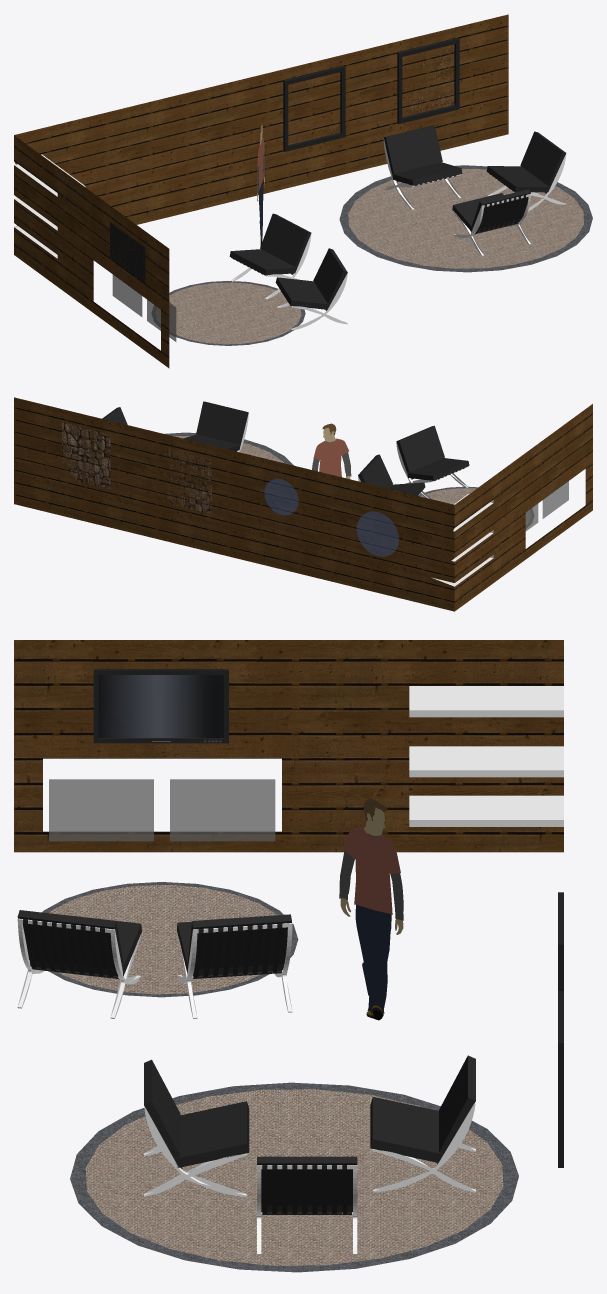
The model's file is room.FBX.
The picture shows the model from 3 angles, top to bottom: view 1: azimuth 30°, elevation 25°; view 2: azimuth 150°, elevation 25°; view 3: azimuth 270°, elevation 25°; orthographic projection. The views are drawn at different scales.
Visible parts, largest first — view 1: Layer0_001, cushion - seat#2_007, cushion - seat#1_003, cushion - seat#1_011, ske5A8_001, cushion - seat#1_005, cushion - seat#1_007, cushion - seat#1_009, cushion - seat#1_001, cushion - seat#2_005, cushion - seat#2_003, cushion - seat#2_001 (+4 smaller); view 2: Layer0_001, cushion - seat#2_003, cushion - seat#1_007, Bryce_004, cushion - seat#1_005, cushion - seat#1_003, cushion - seat#2_001, Barcelona_002, cushion - seat#1_001; view 3: Layer0_001, ske5A8_001, Bryce_004, cushion - seat#2_001, cushion - seat#2_005, cushion - seat#1_011, cushion - seat#1_003, cushion - seat#1_007, cushion - seat#2_003, cushion - seat#2_007, Barcelona#1_001, Barcelona_002 (+4 smaller).
Boxes of the visible parts, bbox=[...] form: Layer0_001: bbox=[14, 14, 592, 368]; cushion - seat#2_007: bbox=[383, 125, 442, 173]; cushion - seat#1_003: bbox=[260, 213, 311, 267]; cushion - seat#1_011: bbox=[520, 131, 566, 186]; ske5A8_001: bbox=[110, 222, 145, 283]; cushion - seat#1_005: bbox=[275, 277, 330, 309]; cushion - seat#1_007: bbox=[313, 248, 347, 304]; cushion - seat#1_009: bbox=[486, 166, 550, 192]; cushion - seat#1_001: bbox=[229, 249, 296, 275]; cushion - seat#2_005: bbox=[392, 162, 462, 185]; cushion - seat#2_003: bbox=[472, 189, 530, 227]; cushion - seat#2_001: bbox=[452, 193, 521, 231]; Layer0_001: bbox=[14, 397, 592, 611]; cushion - seat#2_003: bbox=[196, 401, 248, 444]; cushion - seat#1_007: bbox=[396, 425, 444, 472]; Bryce_004: bbox=[312, 423, 351, 479]; cushion - seat#1_005: bbox=[407, 458, 469, 480]; cushion - seat#1_003: bbox=[358, 454, 392, 488]; cushion - seat#2_001: bbox=[183, 434, 240, 451]; Barcelona_002: bbox=[396, 442, 468, 498]; cushion - seat#1_001: bbox=[389, 482, 425, 495]; Layer0_001: bbox=[14, 640, 563, 1272]; ske5A8_001: bbox=[93, 669, 228, 743]; Bryce_004: bbox=[339, 798, 403, 1020]; cushion - seat#2_001: bbox=[175, 1101, 249, 1167]; cushion - seat#2_005: bbox=[370, 1097, 443, 1162]; cushion - seat#1_011: bbox=[257, 1156, 356, 1205]; cushion - seat#1_003: bbox=[187, 914, 291, 969]; cushion - seat#1_007: bbox=[17, 910, 123, 969]; cushion - seat#2_003: bbox=[144, 1059, 180, 1158]; cushion - seat#2_007: bbox=[439, 1055, 475, 1153]; Barcelona#1_001: bbox=[144, 1106, 246, 1196]; Barcelona_002: bbox=[17, 918, 141, 1018].
Size of the model in its own units: 296 by 71.62 by 169.
Materials: 20 (5 with a texture image).
